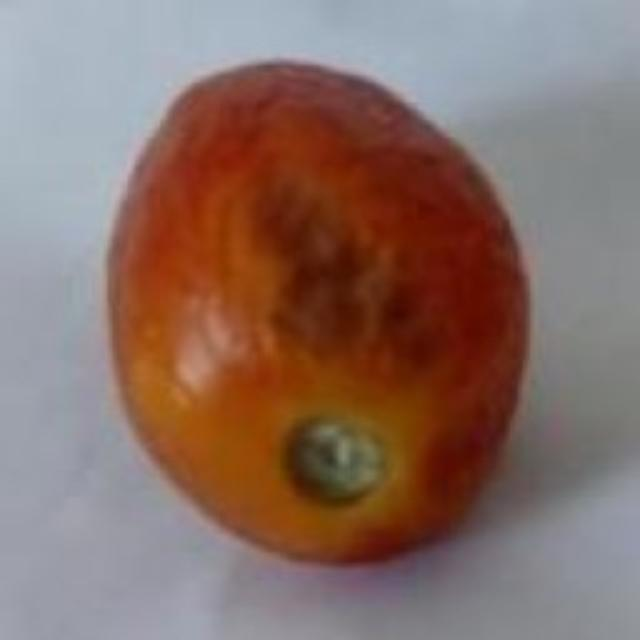defect: (98, 54, 550, 571)
